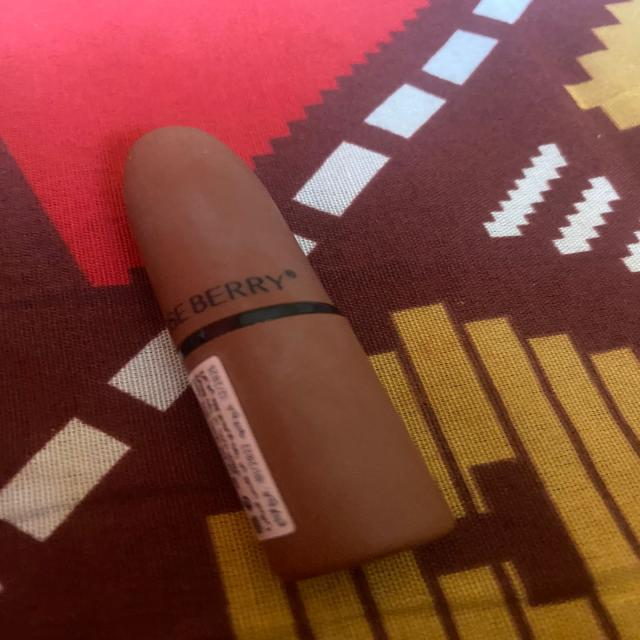lip stick: (113, 127, 470, 580)
